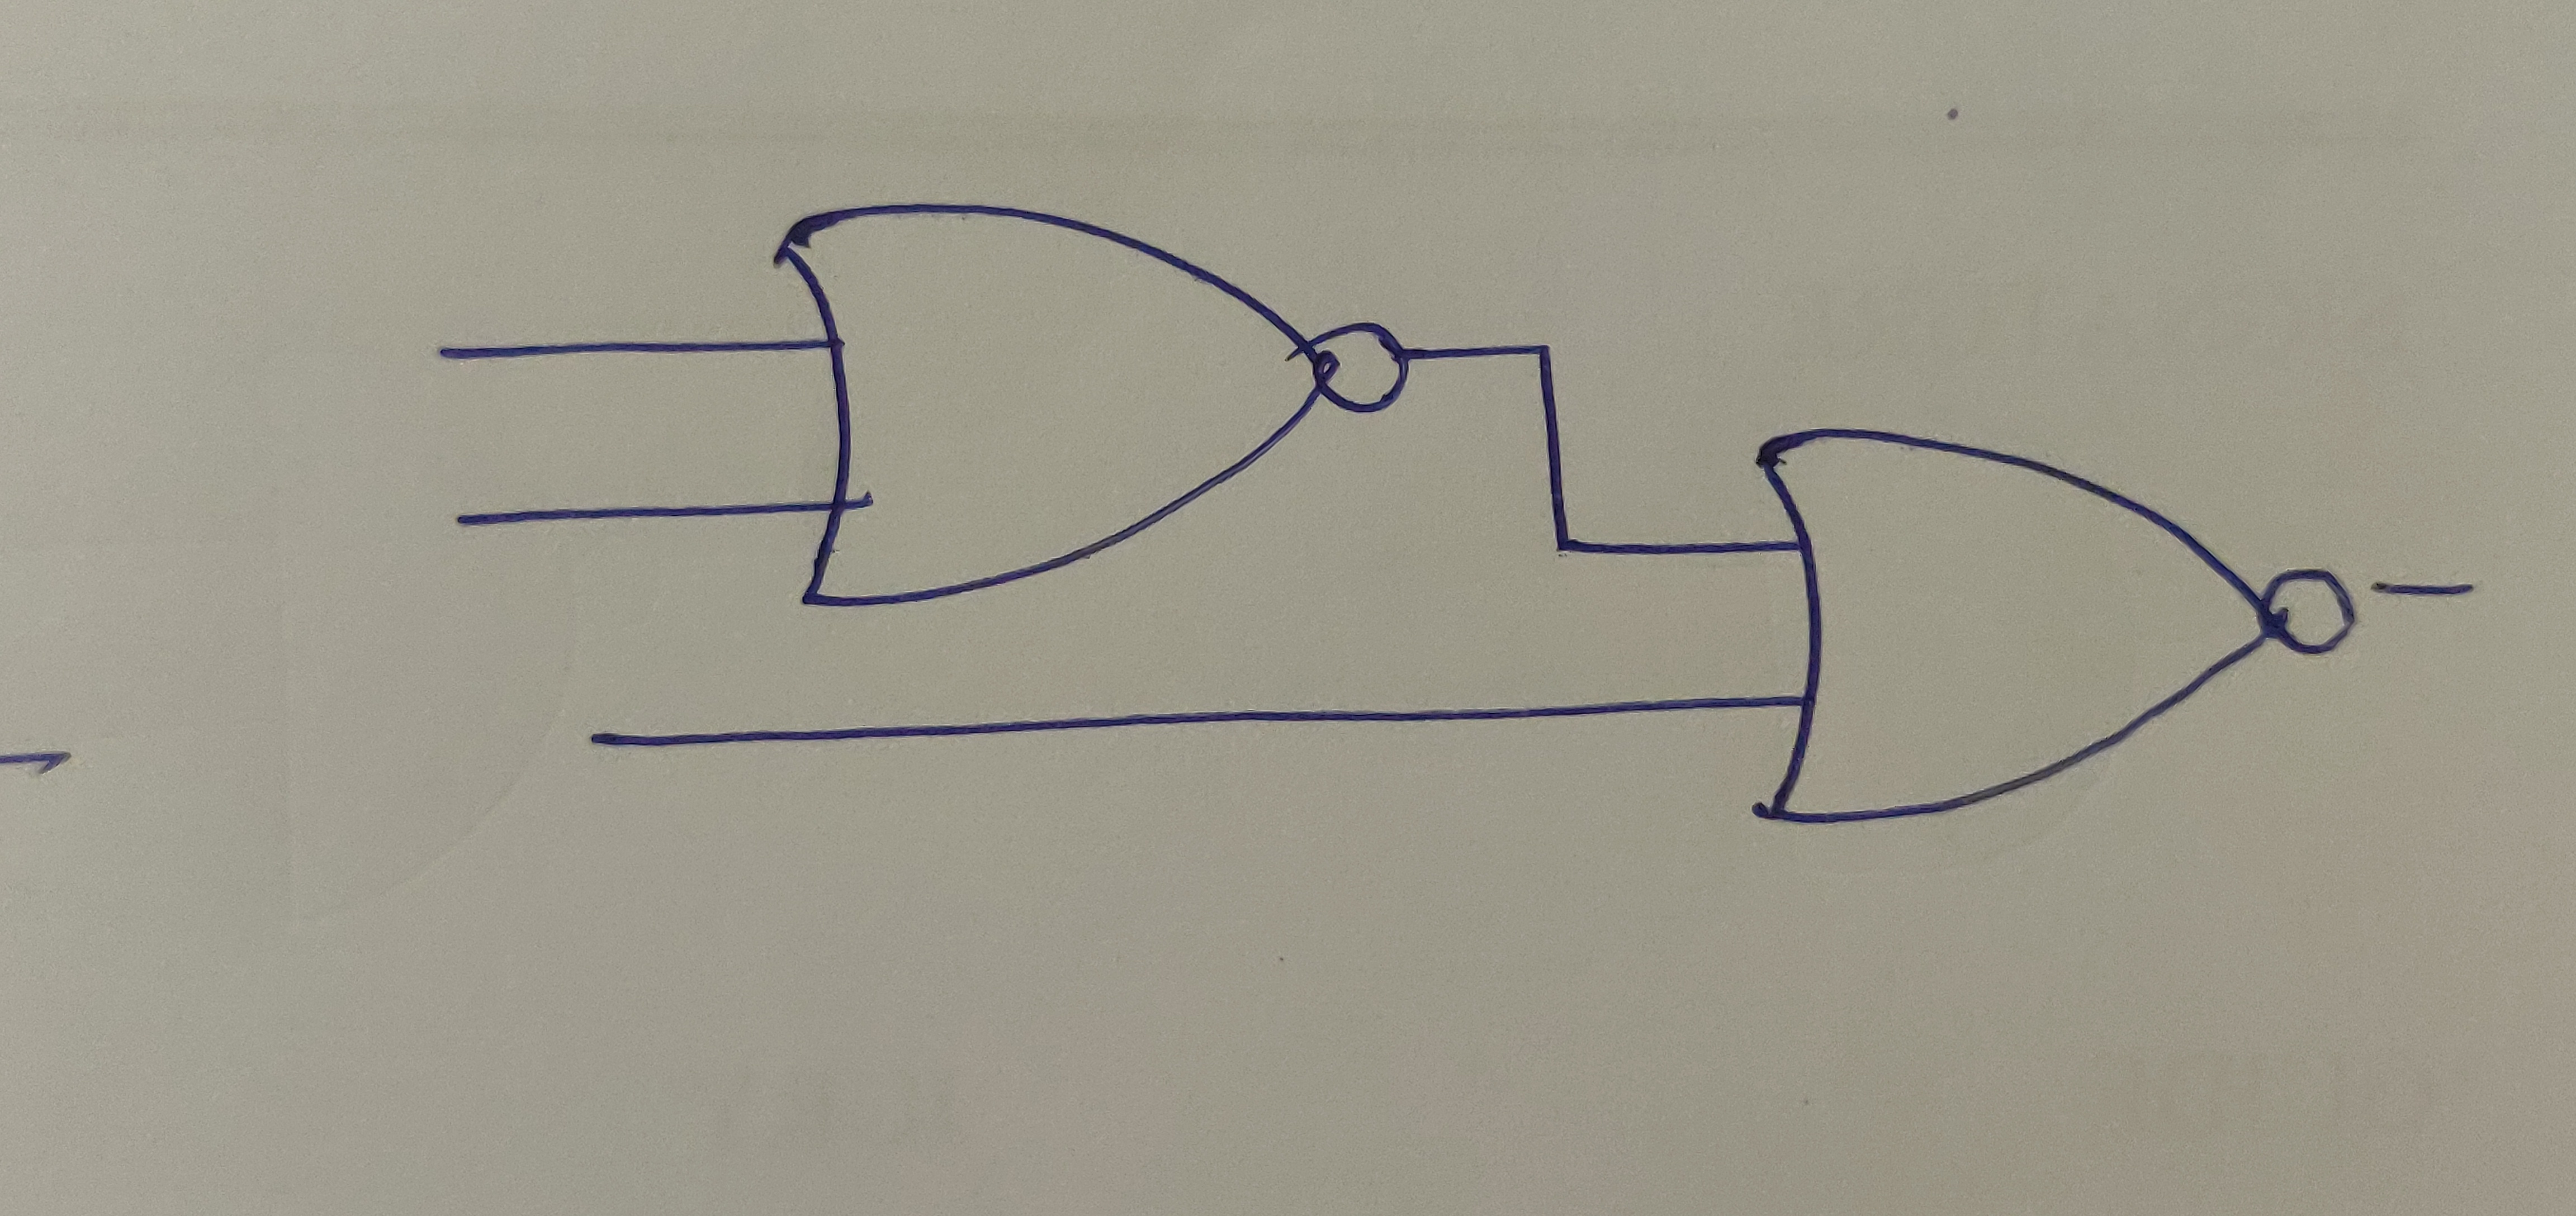not: (1306, 324, 1419, 421), (2264, 565, 2364, 659)
or: (764, 197, 1331, 613), (1737, 422, 2280, 830)
